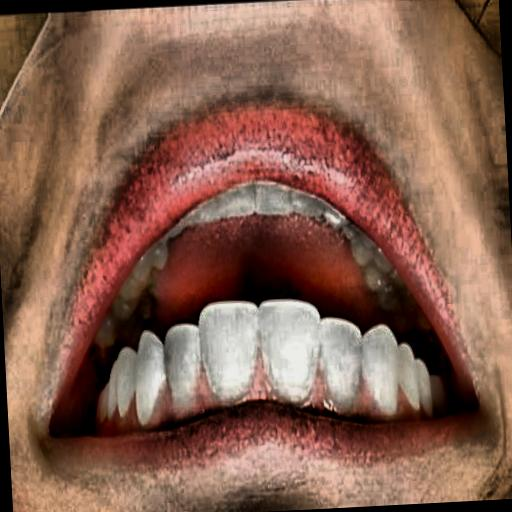Healthy: (9, 78, 512, 512)
